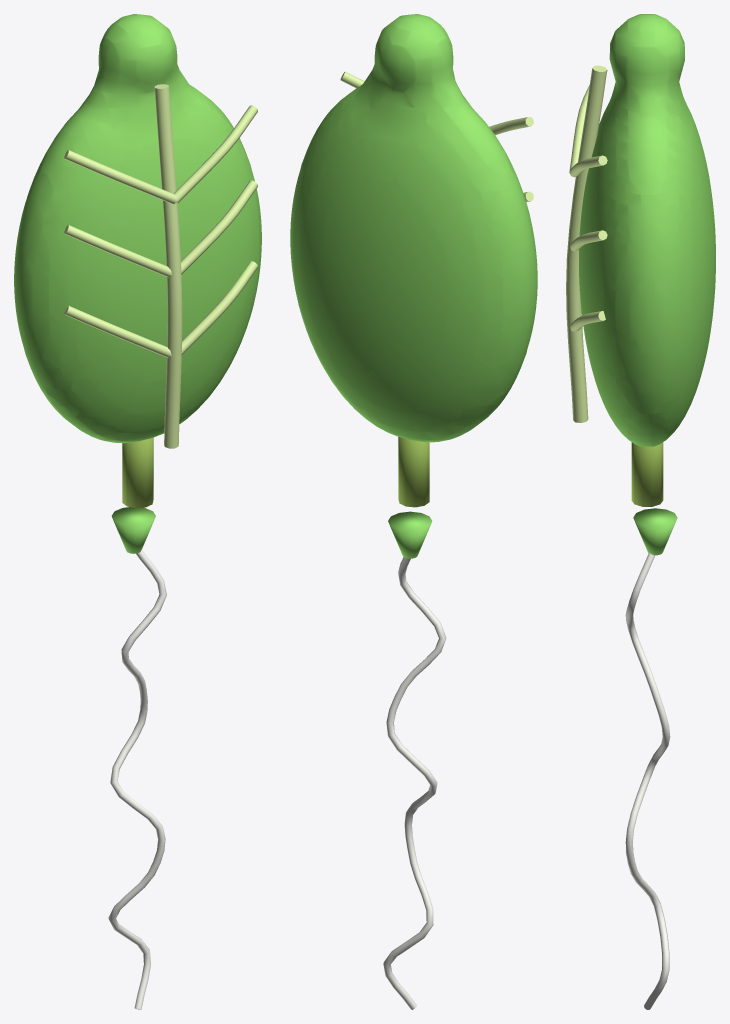
The model's file is B07_Leaf.glb.
The picture shows the model from 3 angles, left to right: view 1: azimuth 30°, elevation 25°; view 2: azimuth 150°, elevation 25°; view 3: azimuth 270°, elevation 25°; orthographic projection.
Parts seen in each view (by area): view 1: B07_Leaf_Mesh; view 2: B07_Leaf_Mesh; view 3: B07_Leaf_Mesh.
Boxes of the visible parts, x1,y1,x2,y2 form: B07_Leaf_Mesh: (14,14,261,1009); B07_Leaf_Mesh: (290,14,537,1009); B07_Leaf_Mesh: (566,14,715,1009).
Size of the model in its own units: 0.43 by 1.72 by 0.2362.
